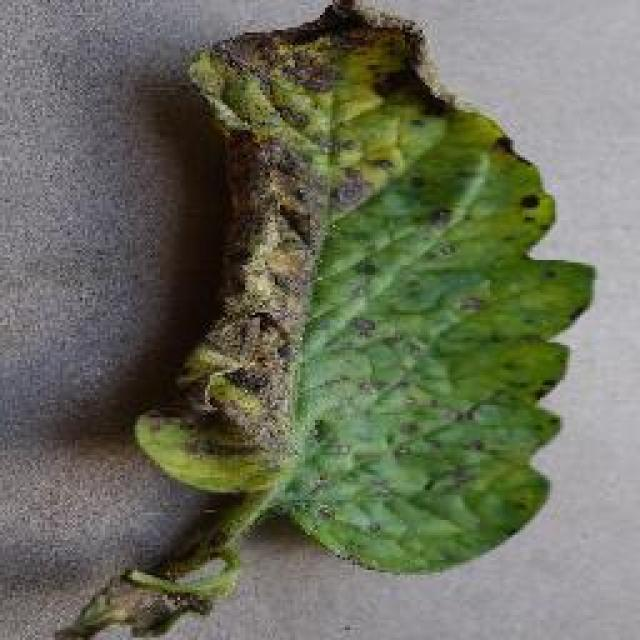Tomato Early blight leaf: (101, 10, 574, 618)
